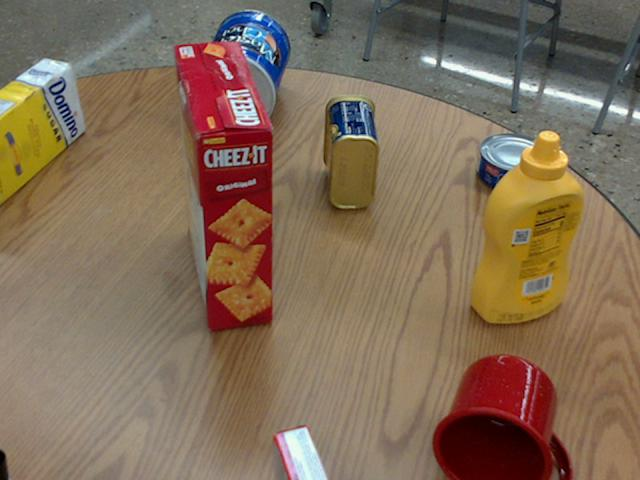cracker_box: (175, 44, 276, 330)
gelatin_box: (271, 427, 325, 479)
large_marker: (0, 454, 7, 479)
master_chef_can: (190, 10, 289, 131)
mug: (433, 355, 570, 479)
mustard_bottle: (469, 130, 584, 321)
potted_meat_can: (323, 94, 379, 208)
sugar_box: (0, 58, 83, 204)
tuna_fish_can: (476, 132, 551, 194)
